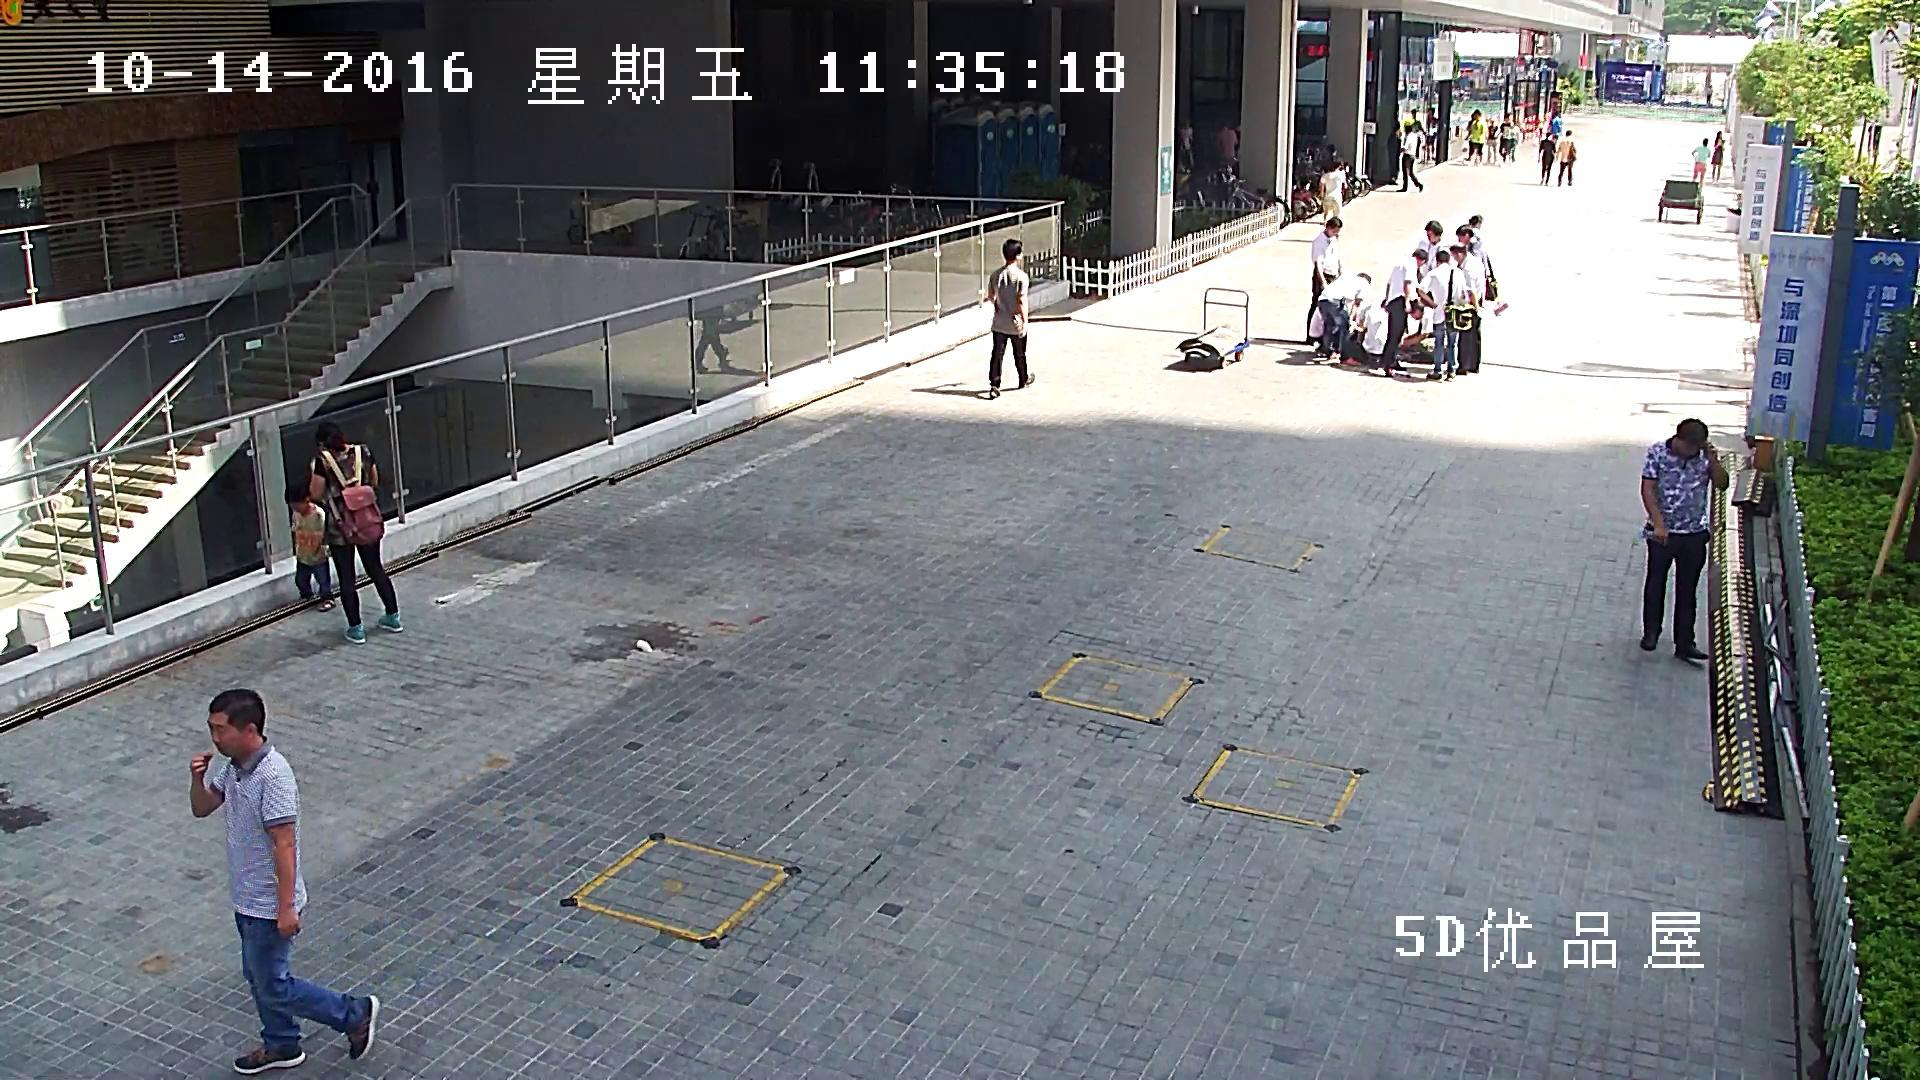person: (189, 687, 380, 1075), (1638, 417, 1729, 661), (307, 420, 404, 644), (986, 238, 1036, 399), (1419, 250, 1475, 381), (283, 485, 338, 612), (1379, 248, 1429, 378), (1455, 224, 1510, 317), (1317, 271, 1370, 366), (1304, 216, 1343, 346), (1449, 245, 1486, 376), (1415, 220, 1450, 339), (694, 303, 737, 374), (1350, 298, 1388, 376), (1319, 161, 1345, 228), (1396, 125, 1423, 192), (1419, 107, 1439, 163), (1556, 130, 1576, 186), (1691, 137, 1710, 191), (1403, 108, 1423, 159), (1465, 109, 1484, 161), (1538, 132, 1555, 184), (1177, 120, 1194, 172), (1215, 126, 1237, 159), (1710, 130, 1724, 180), (1499, 114, 1511, 161), (1487, 120, 1498, 161), (1551, 113, 1561, 139)
